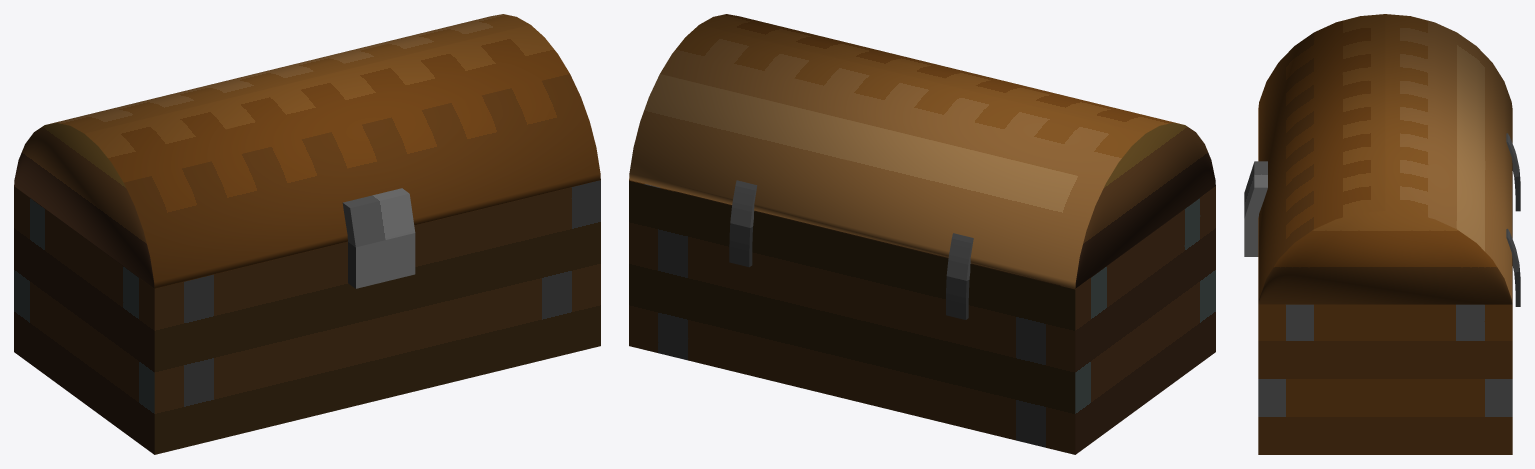
The model's file is locked_chest_522x00.obj.
3 views of the same model, side by side, from view 1: azimuth 30°, elevation 25°; view 2: azimuth 150°, elevation 25°; view 3: azimuth 270°, elevation 25° (orthographic). The views are drawn at different scales.
Visible parts, largest first — view 1: Chest.final; view 2: Chest.final; view 3: Chest.final.
Part boxes in pixels (bbox=[...]): Chest.final: bbox=[14, 14, 600, 454]; Chest.final: bbox=[629, 14, 1215, 454]; Chest.final: bbox=[1244, 14, 1520, 454].
Bounding box in the file's own units: 2.06 × 1.19 × 1.22.
